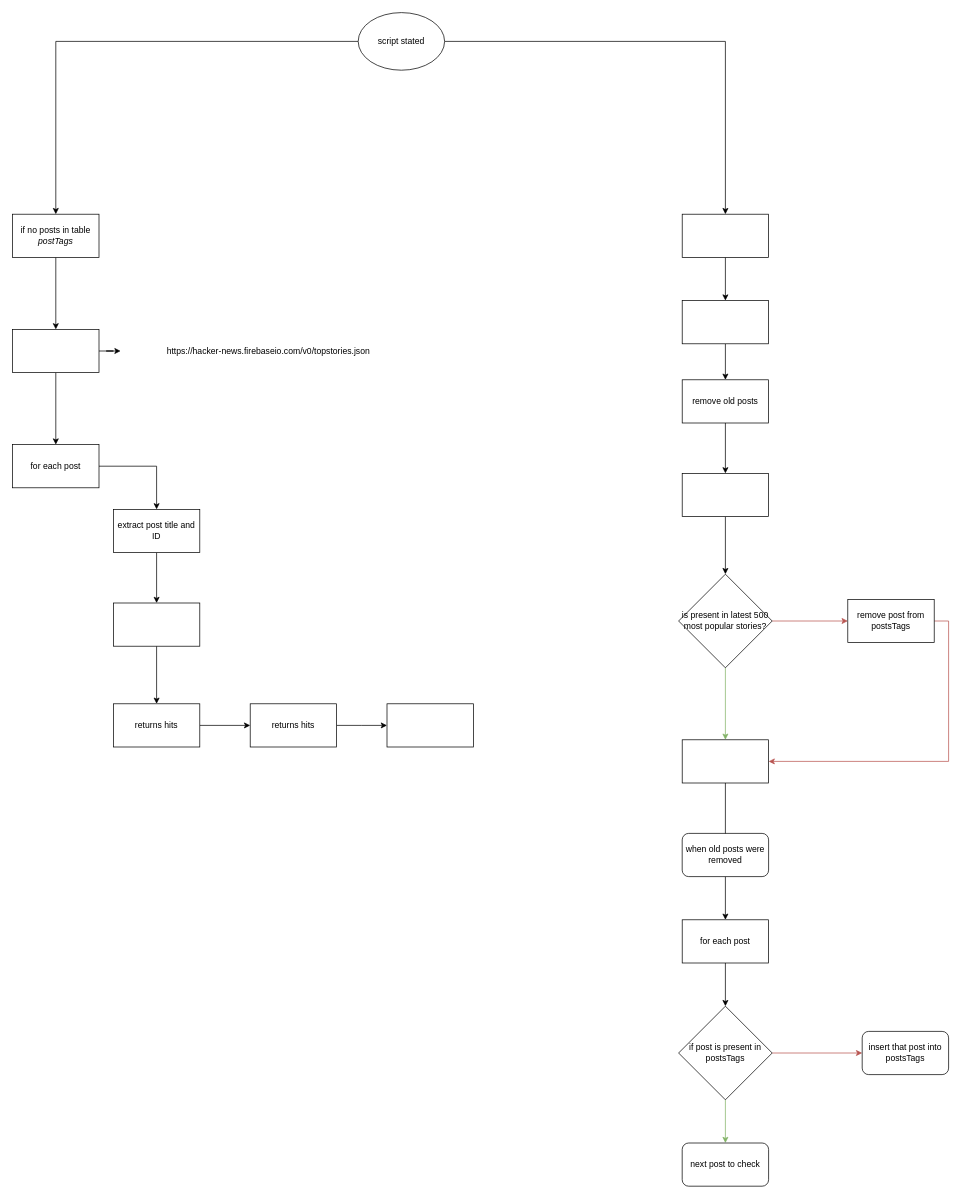
This 967x1199 diagram has some shape labels left out. Here are the shapes that lost their labels. From the top down, the centre of each, then its label:
the point at 725,235: if there are posts in postTags
the point at 725,322: fetch 500 most popular stories and put it in const
the point at 55,351: fetch 500 most popular stories
the point at 725,495: for each post in DB
the point at 156,624: puts into wink-nlp
the point at 429,725: insert into postTags hits and postId
the point at 725,761: end, next post to check
